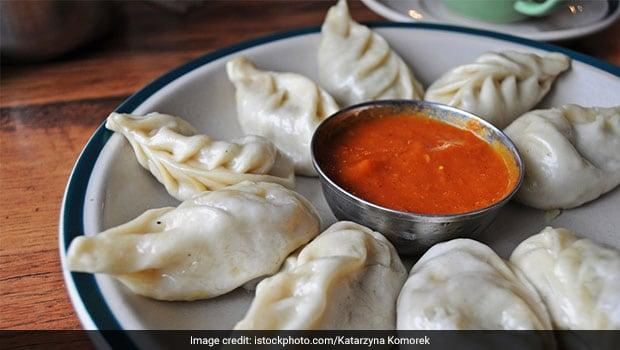momos: (67, 180, 320, 300), (235, 222, 408, 329), (107, 113, 294, 199), (397, 239, 551, 329), (226, 57, 338, 175), (505, 104, 620, 209), (317, 0, 424, 106), (424, 51, 569, 128), (512, 226, 620, 329)
